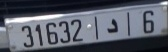1: (35, 22, 43, 48)
2: (70, 17, 84, 43)
3: (21, 25, 34, 49), (58, 20, 71, 44)
6: (141, 9, 155, 35), (46, 21, 59, 45)
d: (104, 17, 120, 34)
